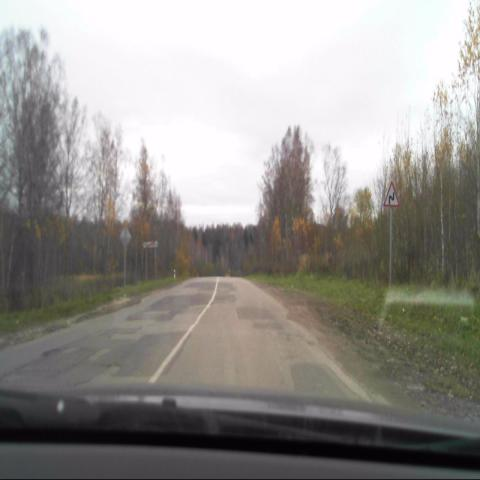1_12: (382, 181, 400, 207)
